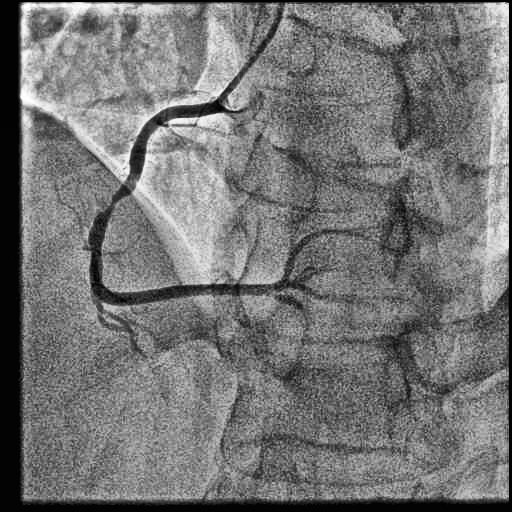pborca: (275, 229, 402, 290)
rca: (89, 102, 275, 305)
